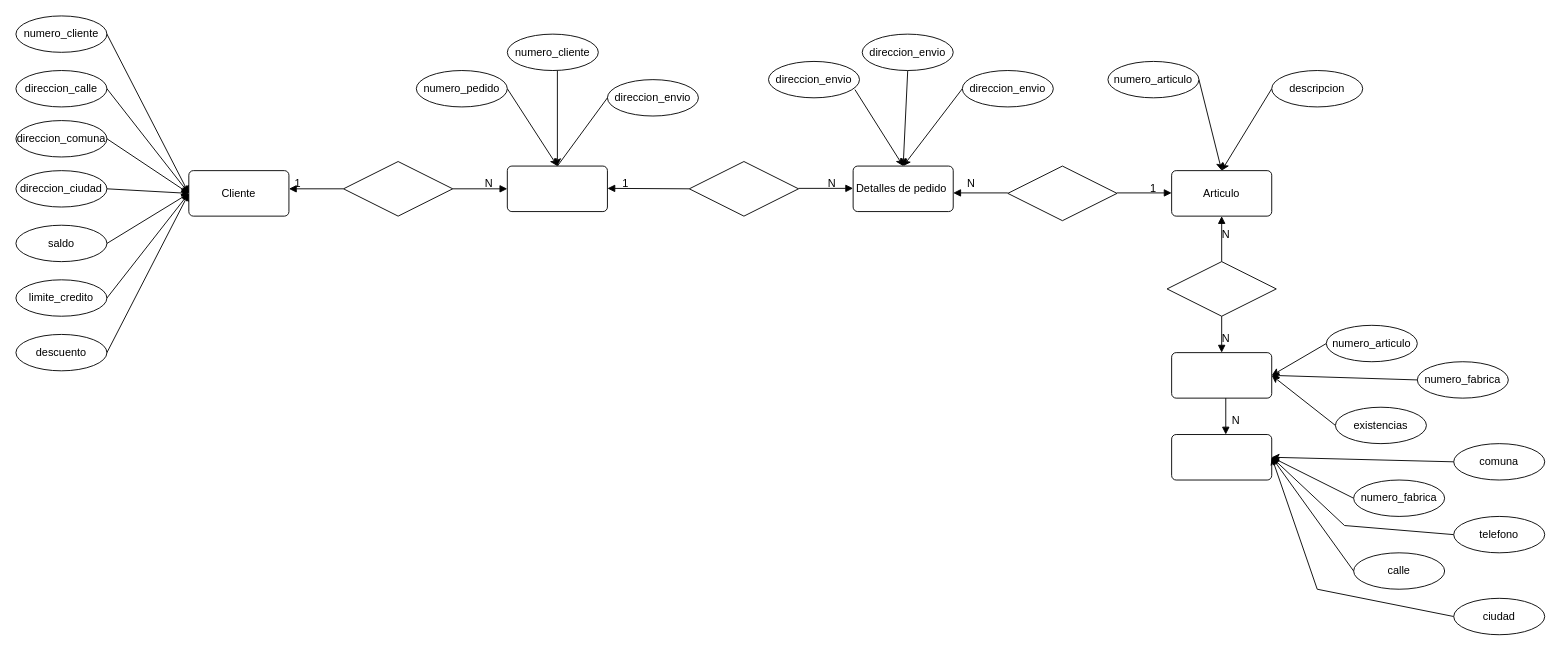
The diagram is 1561 pixels wide and 651 high, and some of its shapes have lost their labels. Here are the shapes that lost their labels. From the top down, the box of each, then its label:
(343, 161, 453, 216): Realiza
(506, 165, 607, 212): Pedido
(688, 161, 799, 216): Tiene
(1007, 165, 1117, 221): Corresponde a
(1166, 261, 1276, 316): Distribuye
(1171, 352, 1272, 398): Articulo_fabrica
(1171, 434, 1272, 480): Fabrica
